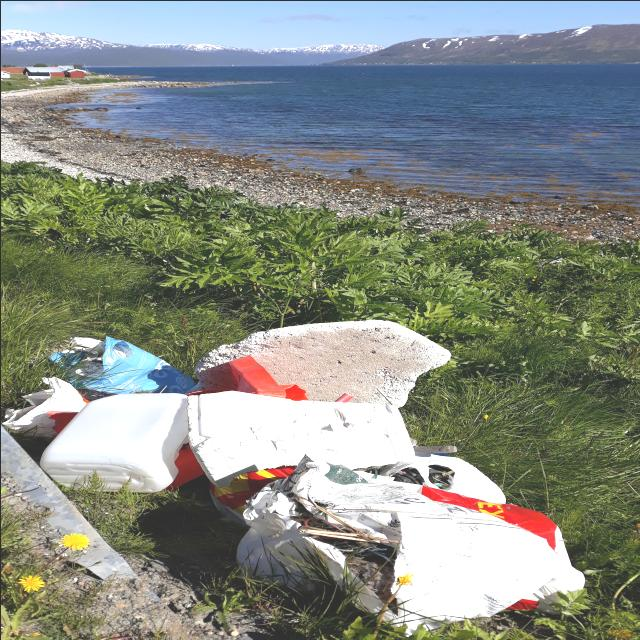Other plastic bottle: (228, 354, 307, 400)
Other plastic container: (39, 392, 187, 492)
Single-use carrier bag: (237, 453, 566, 636), (367, 478, 583, 614), (49, 335, 195, 399), (374, 452, 505, 502), (1, 376, 89, 438), (208, 464, 294, 524), (68, 336, 104, 377)
Styrofoam piece: (183, 319, 451, 407), (187, 390, 414, 487)
